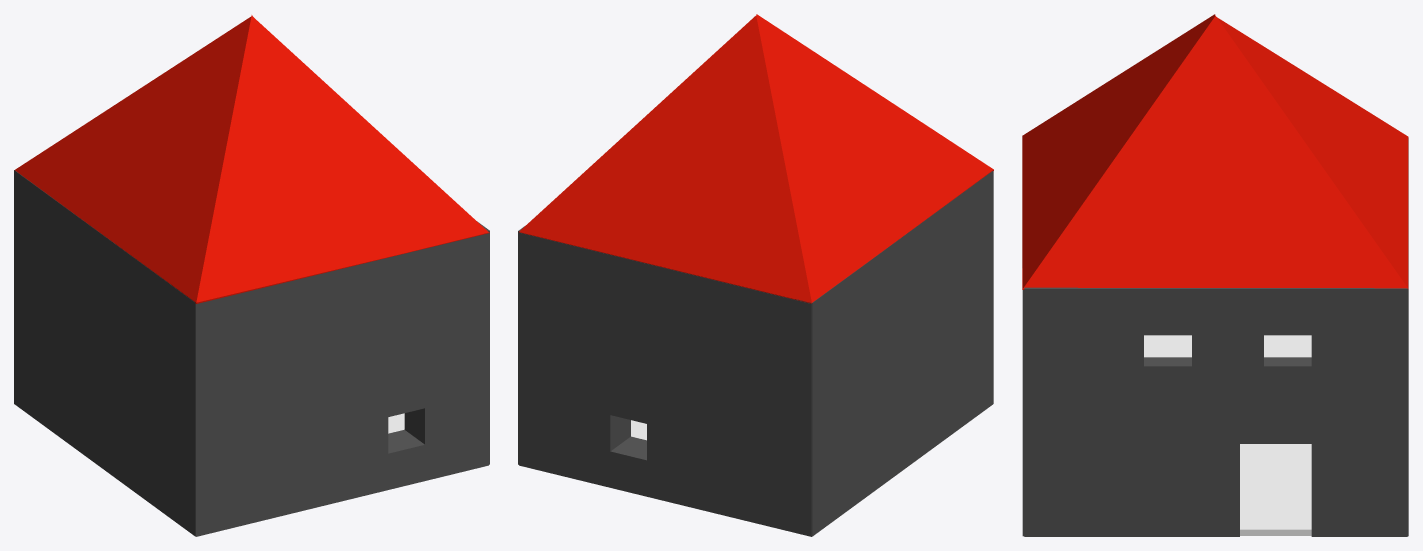
The model's file is BaseHouse.glb.
3 views of the same model, side by side, from view 1: azimuth 30°, elevation 25°; view 2: azimuth 150°, elevation 25°; view 3: azimuth 270°, elevation 25° (orthographic). The views are drawn at different scales.
Parts seen in each view (by area): view 1: Cube, Cube.003, Cube.001; view 2: Cube, Cube.002, Cube.001; view 3: Cube.017, Cube, Cube.014, Cube.004, Cube.003, Cube.002.
Boxes of the visible parts, bbox=[...] form: Cube: bbox=[15, 15, 489, 303]; Cube.003: bbox=[195, 232, 488, 536]; Cube.001: bbox=[14, 170, 195, 535]; Cube: bbox=[519, 14, 993, 303]; Cube.002: bbox=[519, 232, 811, 536]; Cube.001: bbox=[795, 171, 992, 536]; Cube.017: bbox=[1024, 287, 1407, 536]; Cube: bbox=[1022, 14, 1408, 289]; Cube.014: bbox=[1240, 444, 1311, 535]; Cube.004: bbox=[1144, 335, 1311, 357]; Cube.003: bbox=[1022, 290, 1024, 536]; Cube.002: bbox=[1407, 137, 1408, 536].
Size of the model in its own units: 8.38 by 11.44 by 8.97.
